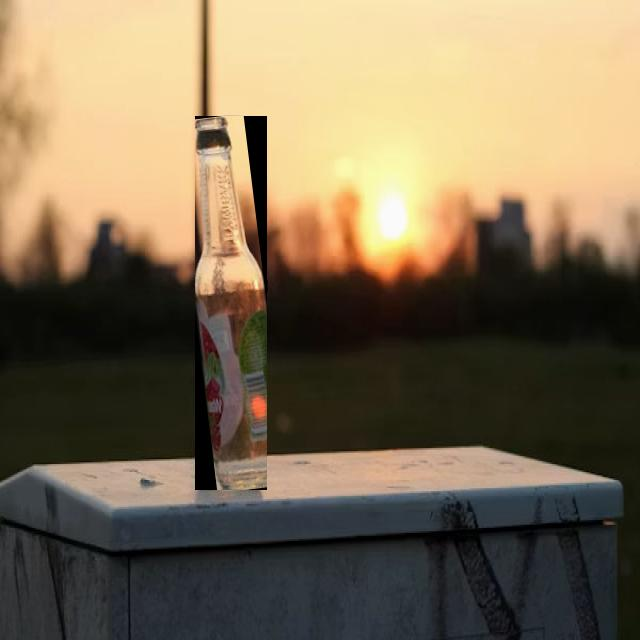Bottle: (195, 117, 265, 489)
